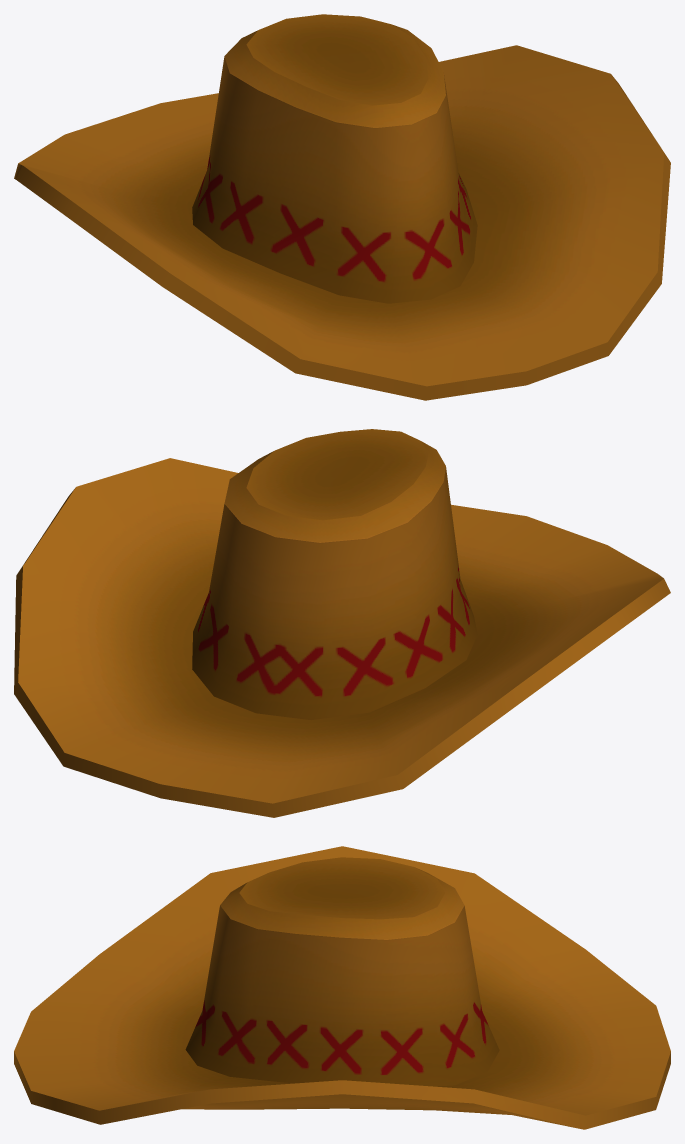
Rendered from m_CowboyHat01.obj.
The picture shows the model from 3 angles, top to bottom: view 1: azimuth 30°, elevation 25°; view 2: azimuth 150°, elevation 25°; view 3: azimuth 270°, elevation 25°; orthographic projection. The views are drawn at different scales.
Visible parts, largest first — view 1: m_CowboyHat01_mi_CowboyHat; view 2: m_CowboyHat01_mi_CowboyHat; view 3: m_CowboyHat01_mi_CowboyHat.
Part boxes in pixels (x1,y1,x2,y2): m_CowboyHat01_mi_CowboyHat: (14, 14, 670, 400); m_CowboyHat01_mi_CowboyHat: (14, 429, 670, 817); m_CowboyHat01_mi_CowboyHat: (14, 846, 670, 1129).
Bounding box in the file's own units: 0.8 × 0.2728 × 0.9217.
Materials: 1 (1 with a texture image).
